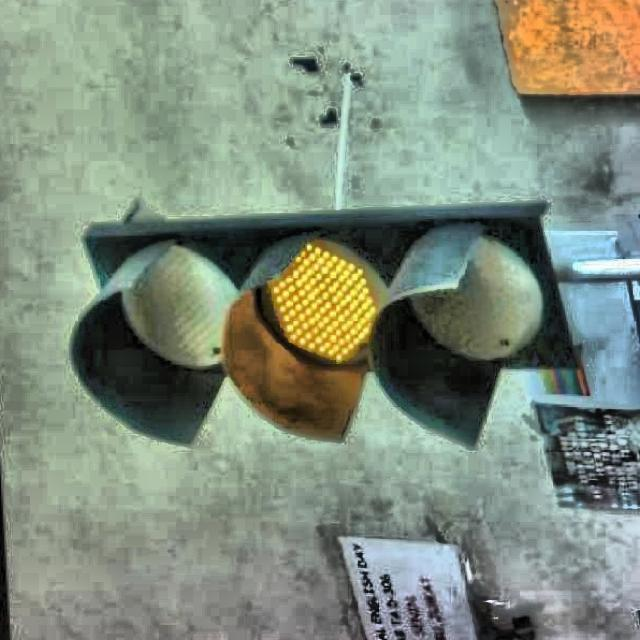yellow: (95, 212, 538, 406)
